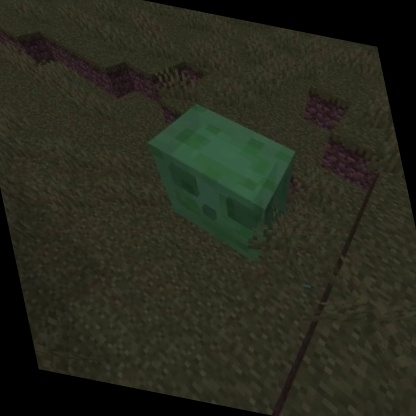slime: (133, 88, 325, 279)
